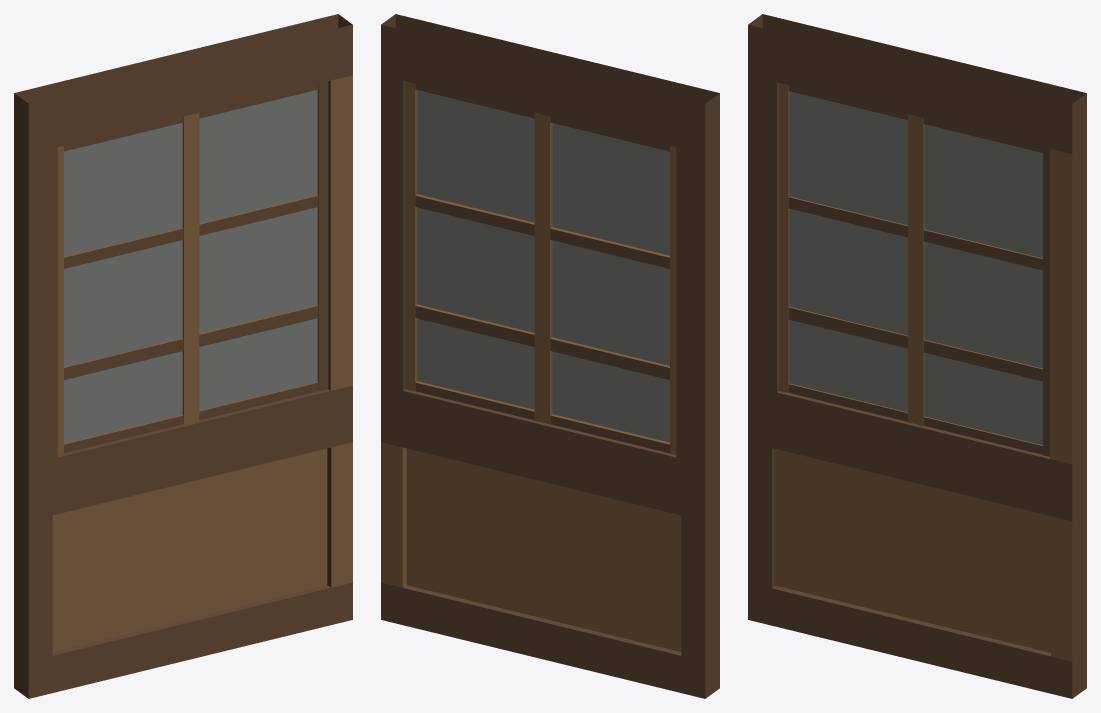
3 views of the same model, side by side, from view 1: azimuth 30°, elevation 25°; view 2: azimuth 150°, elevation 25°; view 3: azimuth 330°, elevation 25° (orthographic).
Parts seen in each view (by area): view 1: door; view 2: door; view 3: door.
Boxes of the visible parts, box(x1,y1,x2,y2) form: door: box(14, 14, 352, 698); door: box(381, 14, 719, 698); door: box(748, 14, 1086, 698).
Size of the model in its own units: 1.03 by 1.8 by 0.08.
